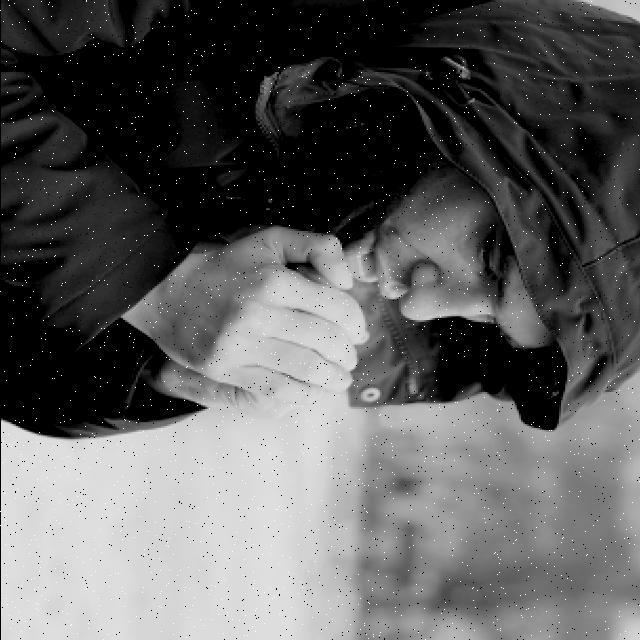face_no_mask: (344, 177, 546, 343)
